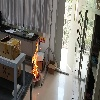fire: (31, 41, 39, 80)
